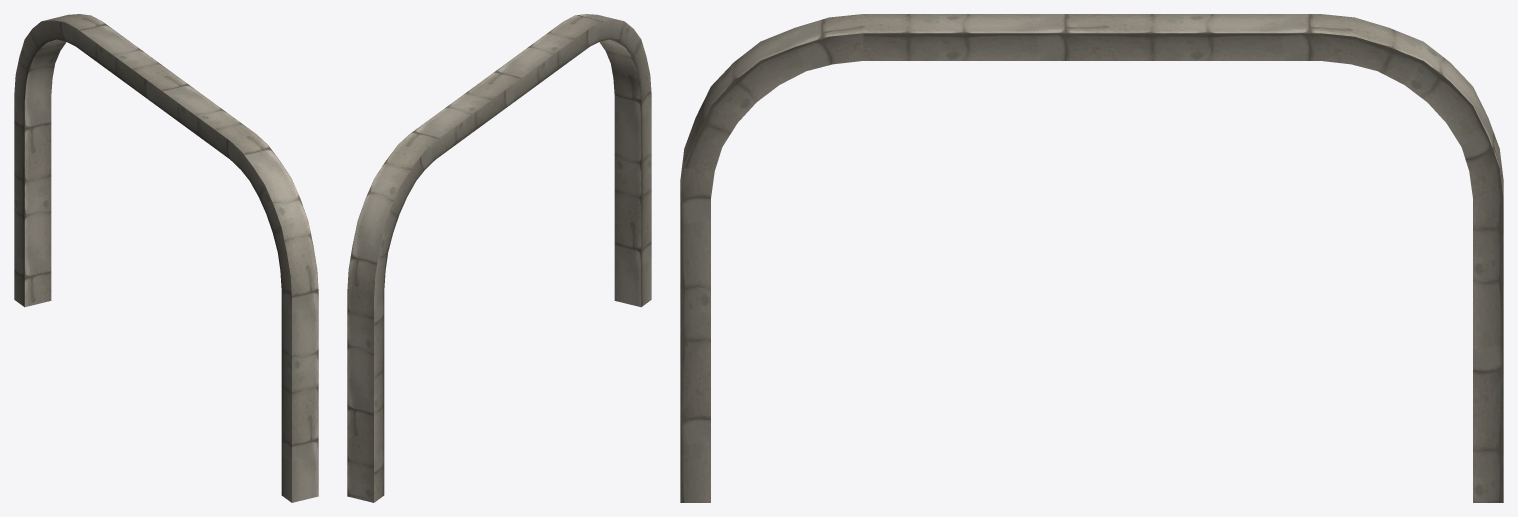
3 renders of one model, left to right at view 1: azimuth 30°, elevation 25°; view 2: azimuth 150°, elevation 25°; view 3: azimuth 270°, elevation 25°, orthographic. The views are drawn at different scales.
Parts seen in each view (by area): view 1: body0_model0_lod0_mesh0; view 2: body0_model0_lod0_mesh0; view 3: body0_model0_lod0_mesh0.
Boxes of the visible parts, x1,y1,x2,y2 form: body0_model0_lod0_mesh0: [14, 14, 318, 502]; body0_model0_lod0_mesh0: [347, 14, 651, 502]; body0_model0_lod0_mesh0: [680, 14, 1503, 502].
Bounding box in the file's own units: 12 × 136 × 216.
Materials: 1 (1 with a texture image).
